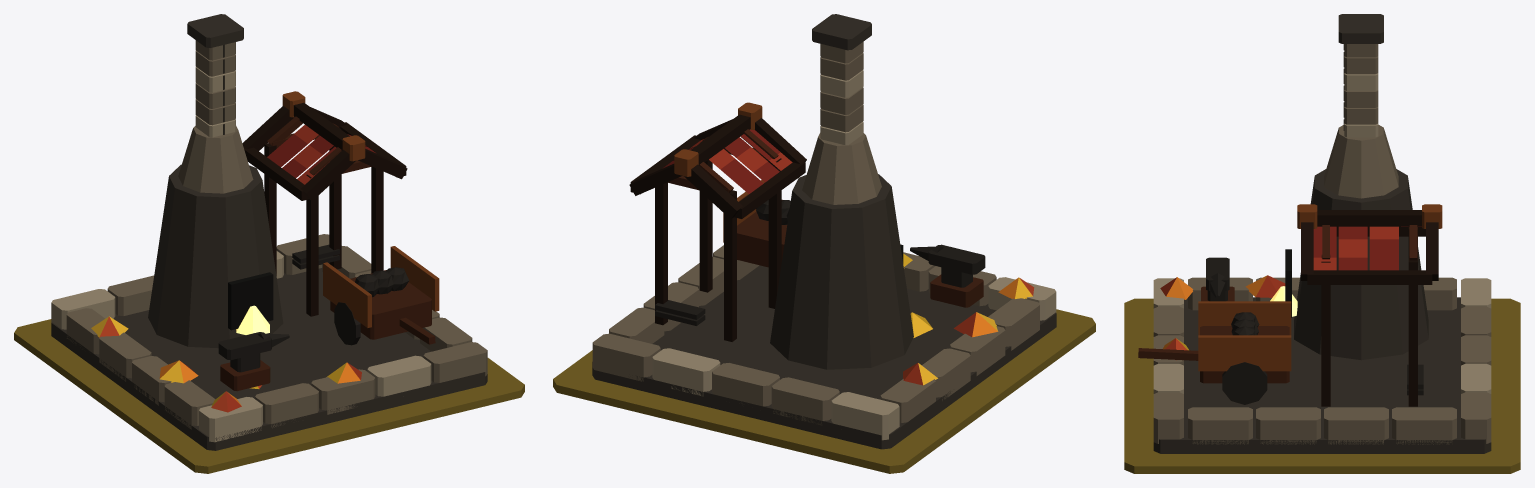
File: smeltery_t2.glb
3 views of the same model, side by side, from view 1: azimuth 30°, elevation 25°; view 2: azimuth 150°, elevation 25°; view 3: azimuth 270°, elevation 25° (orthographic). The views are drawn at different scales.
Parts seen in each view (by area): view 1: MMR | smeltery | T02 Architecture.001, MMR | smeltery | Tier 02 Ground.001, MMR | smeltery | T02 Autumn Dressing.001, MMR | smeltery | T02 Flame Glow.001; view 2: MMR | smeltery | T02 Architecture.001, MMR | smeltery | Tier 02 Ground.001, MMR | smeltery | T02 Autumn Dressing.001; view 3: MMR | smeltery | T02 Architecture.001, MMR | smeltery | Tier 02 Ground.001, MMR | smeltery | T02 Autumn Dressing.001.
Part boxes in pixels (<box>): MMR | smeltery | T02 Architecture.001: <box>51,14,487,450</box>; MMR | smeltery | Tier 02 Ground.001: <box>14,319,524,473</box>; MMR | smeltery | T02 Autumn Dressing.001: <box>91,316,361,412</box>; MMR | smeltery | T02 Flame Glow.001: <box>236,305,269,334</box>; MMR | smeltery | T02 Architecture.001: <box>592,14,1056,449</box>; MMR | smeltery | Tier 02 Ground.001: <box>553,309,1095,473</box>; MMR | smeltery | T02 Autumn Dressing.001: <box>903,253,1034,385</box>; MMR | smeltery | T02 Architecture.001: <box>1138,14,1491,453</box>; MMR | smeltery | Tier 02 Ground.001: <box>1124,298,1520,473</box>; MMR | smeltery | T02 Autumn Dressing.001: <box>1160,275,1285,360</box>.
Size of the model in its own units: 2.35 by 2.28 by 2.35.
Materials: 2 (1 with a texture image).
